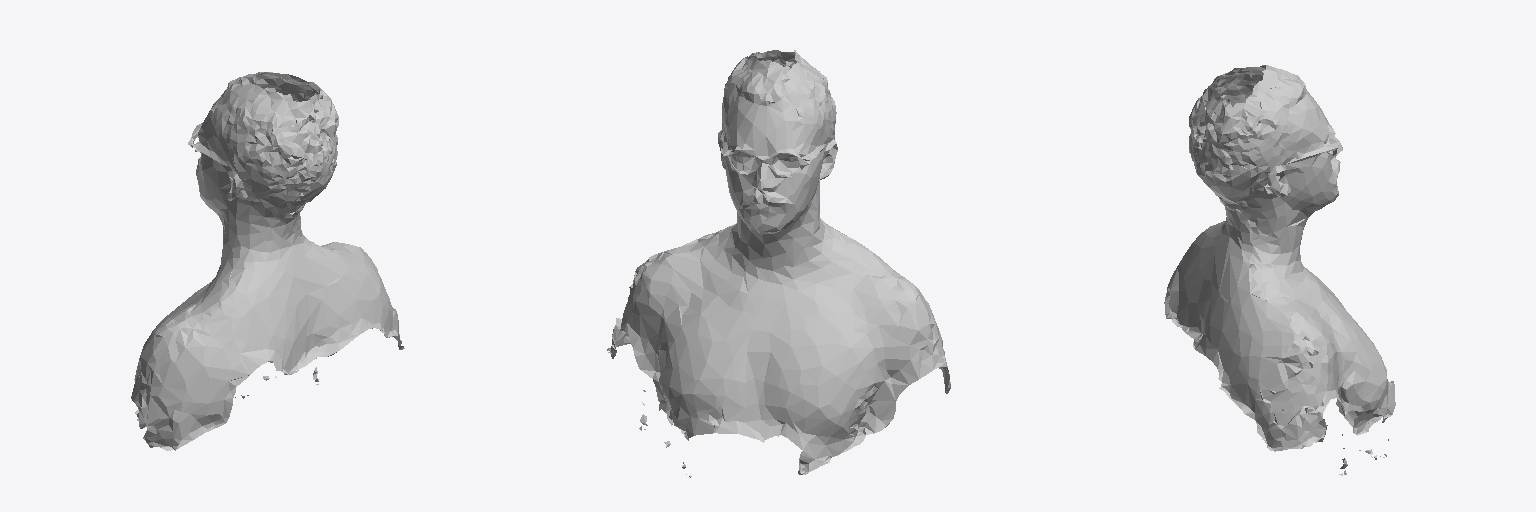
File: TextBen.obj
3 renders of one model, left to right at view 1: azimuth 30°, elevation 25°; view 2: azimuth 150°, elevation 25°; view 3: azimuth 270°, elevation 25°, orthographic.
Parts seen in each view (by area): view 1: BEN_CLEAN.001; view 2: BEN_CLEAN.001; view 3: BEN_CLEAN.001.
Part boxes in pixels (x1,y1,x2,y2): BEN_CLEAN.001: (131, 72, 404, 450); BEN_CLEAN.001: (607, 50, 950, 477); BEN_CLEAN.001: (1164, 65, 1395, 475).
Size of the model in its own units: 5.07 by 6.2 by 3.44.